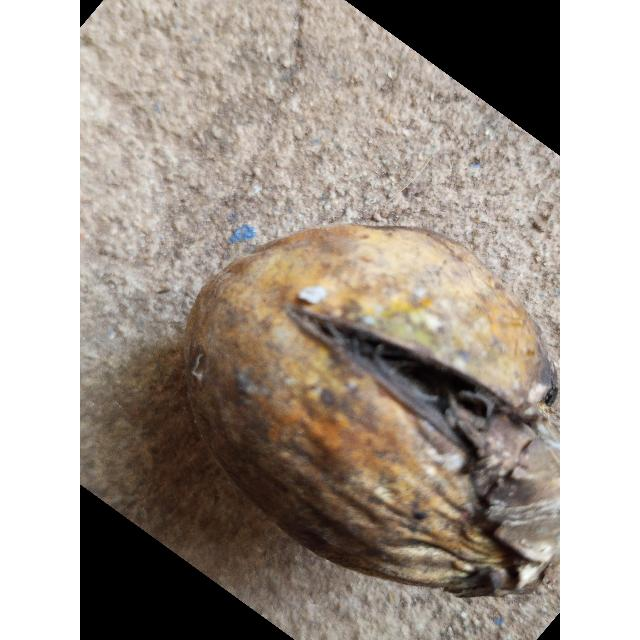damaged: (184, 225, 560, 597)
